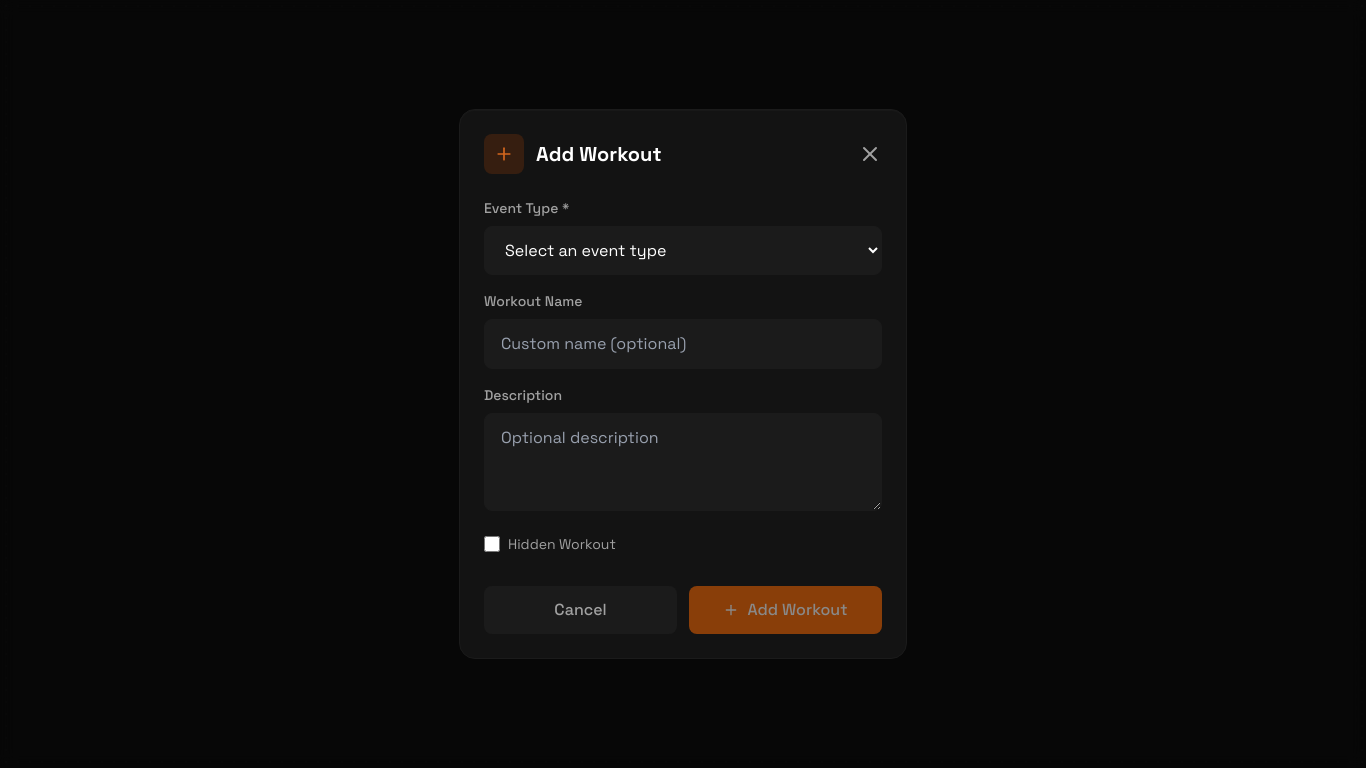
AddWorkoutModal › shows error on API failure
Select "Back Squat" in the dropdown: (683, 250) [484,226,882,275]
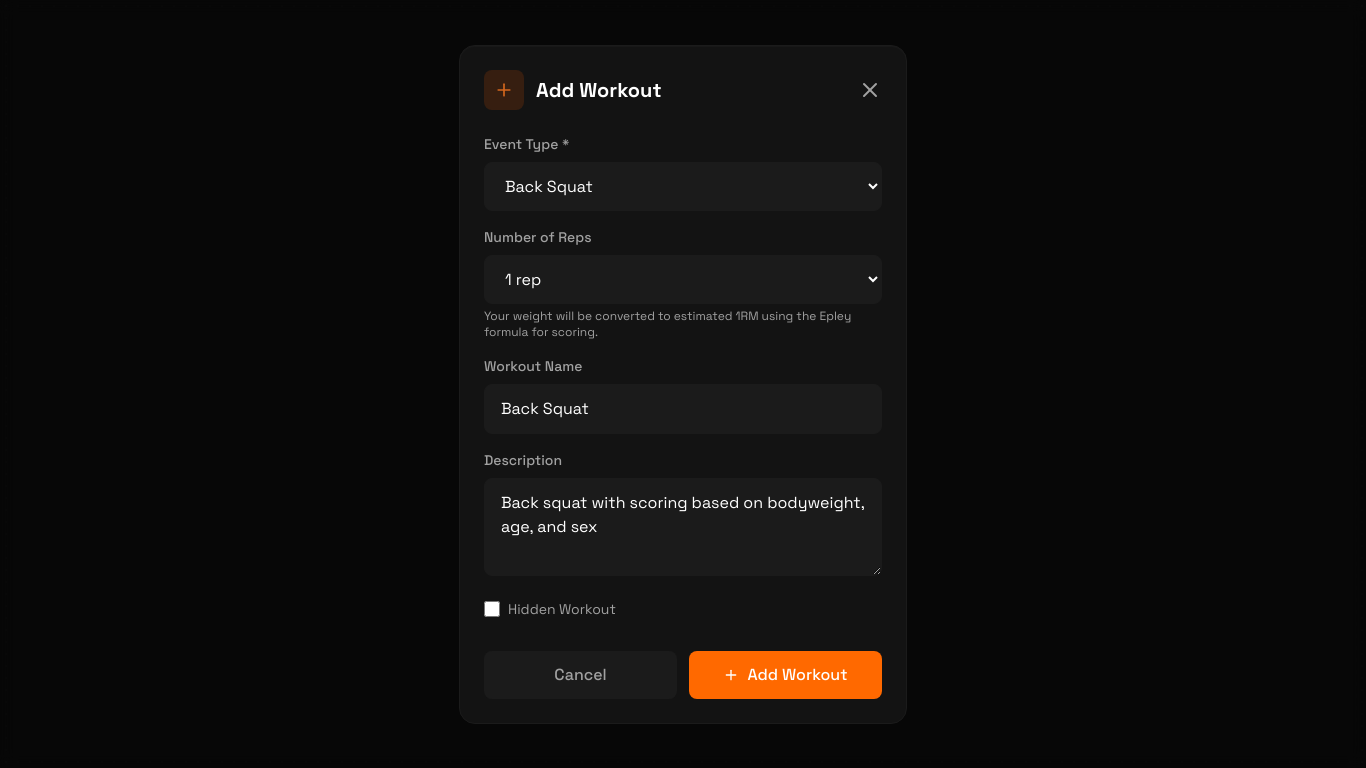
Submit the form, box [484,134,882,698]
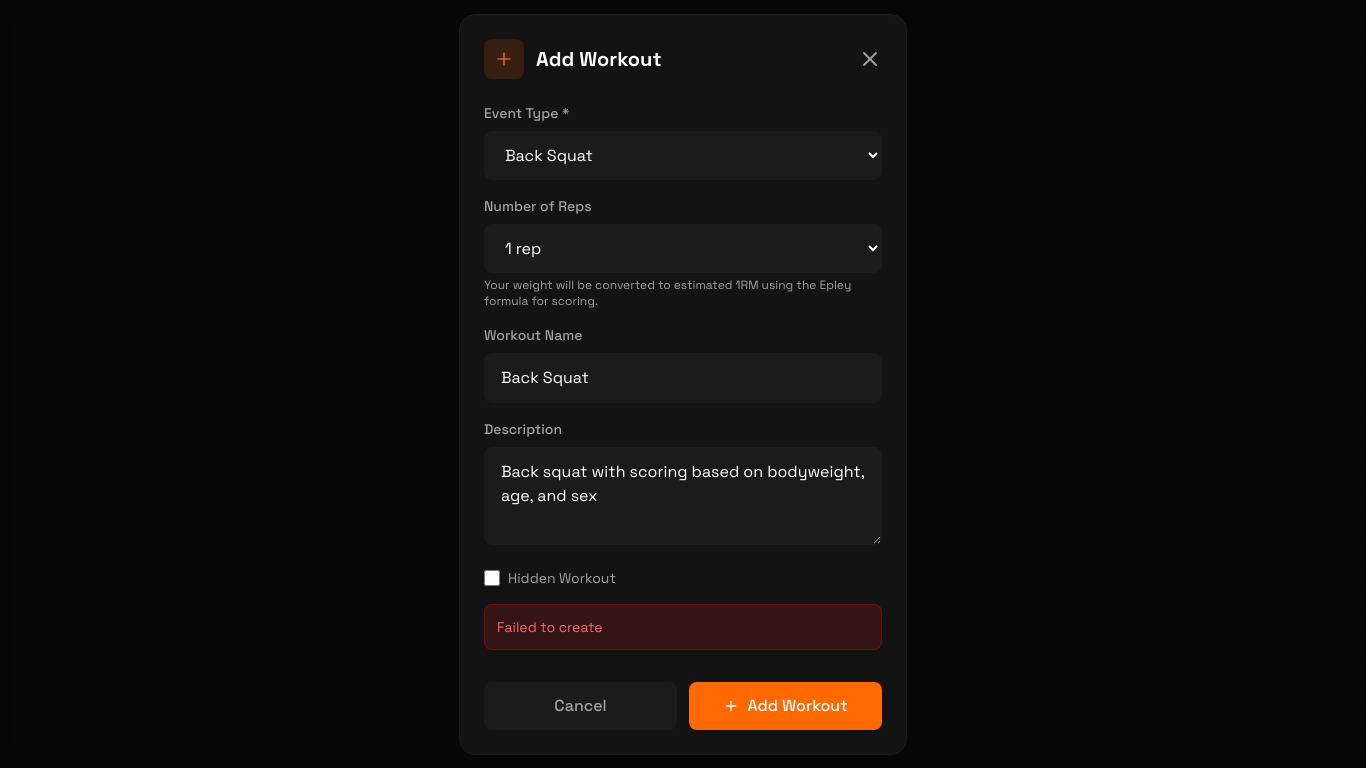
Result: the text "Failed to create" is shown at [497,618,602,636]
